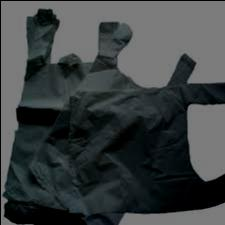Plastic: (5, 5, 133, 224), (68, 80, 224, 213)
